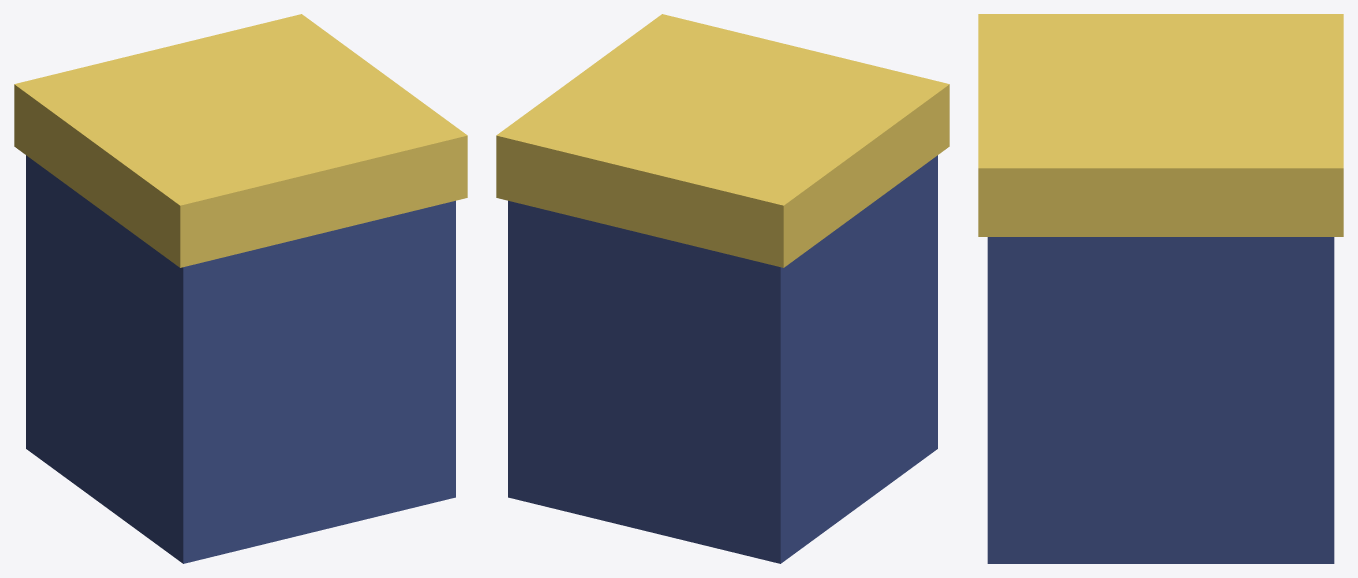
Rendered from vestido_manga_sup.glb.
3 renders of one model, left to right at view 1: azimuth 30°, elevation 25°; view 2: azimuth 150°, elevation 25°; view 3: azimuth 270°, elevation 25°, orthographic. The views are drawn at different scales.
Parts seen in each view (by area): view 1: vestido_manga_sup; view 2: vestido_manga_sup; view 3: vestido_manga_sup.
Boxes of the visible parts, <box> form: vestido_manga_sup: <box>14,14,467,563</box>; vestido_manga_sup: <box>496,14,949,563</box>; vestido_manga_sup: <box>978,14,1343,563</box>.
Size of the model in its own units: 0.29 by 0.35 by 0.29.
